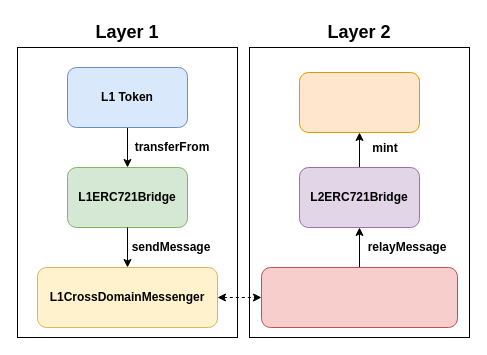
The diagram is 487 pixels wide and 355 high, and some of its shapes have lost their labels. Here are the shapes that lost their labels. From the top down, the box of each, then its label:
(298, 72, 420, 132): L2 Token
(260, 266, 458, 328): L2CrossDomainMessenger
